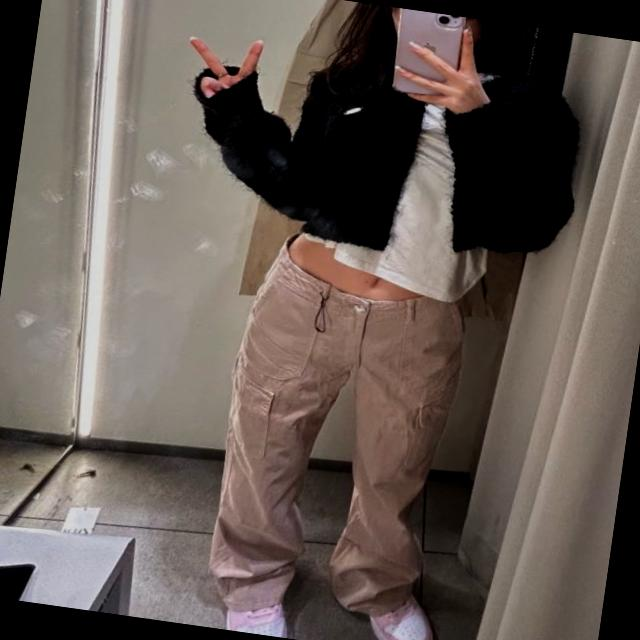cardigan: (176, 11, 594, 277)
cottonpants: (207, 228, 470, 633)
